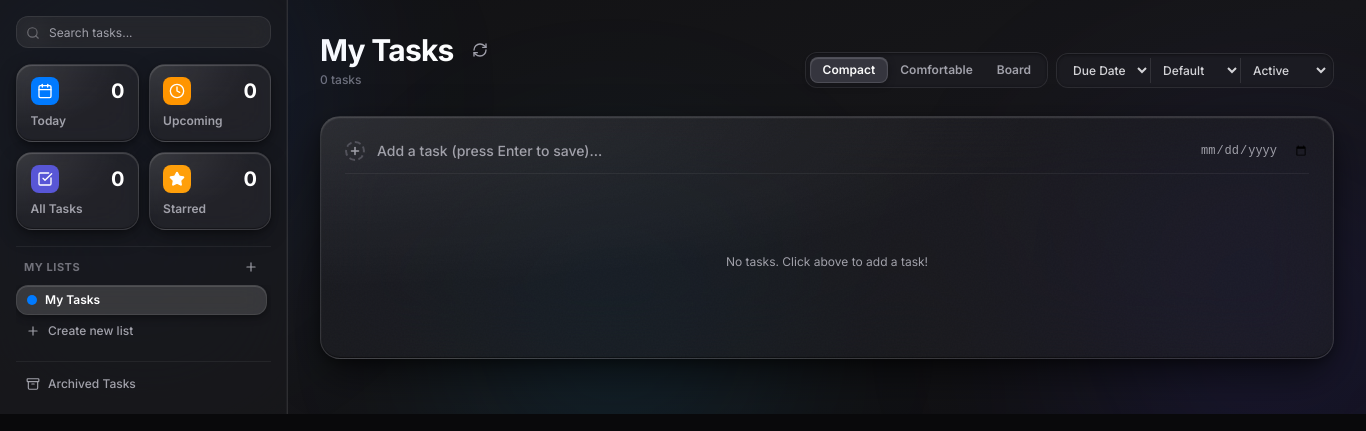
Test case: Tasks View Fixes & Reliability › adding a task in Starred view immediately marks it starred and visible
# Click Starred tile
Click the button "0 Starred" at [210, 191], box top-left (148, 152), bottom-right (271, 230)
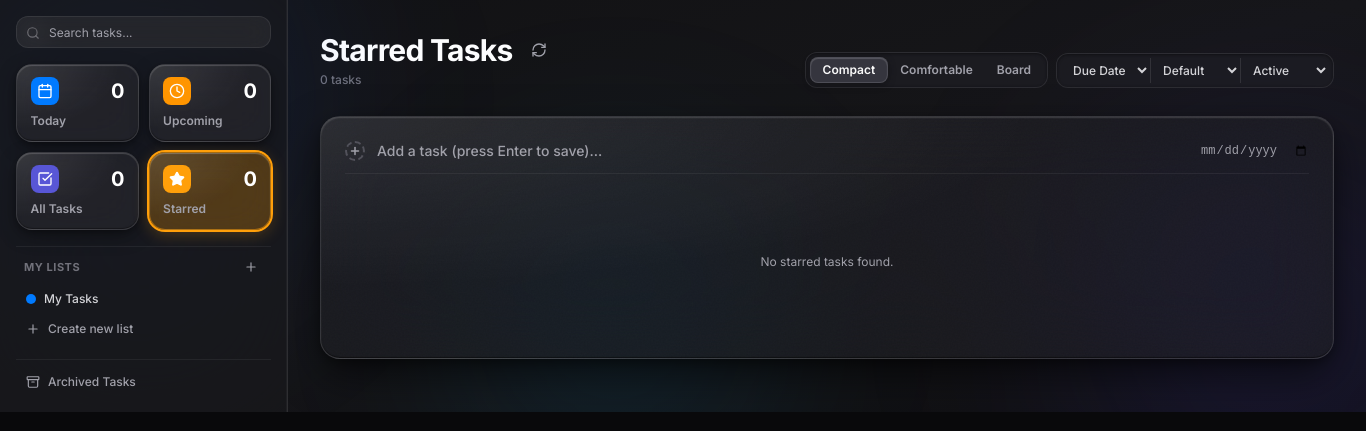
Check: the heading "Starred Tasks" is shown, box top-left (320, 32), bottom-right (512, 68)
# Quick add task in Starred view
Type "Urgent Starred Objective" into the field with placeholder "Add a task (press Enter to save)..." at [782, 151], box top-left (377, 141), bottom-right (1188, 161)
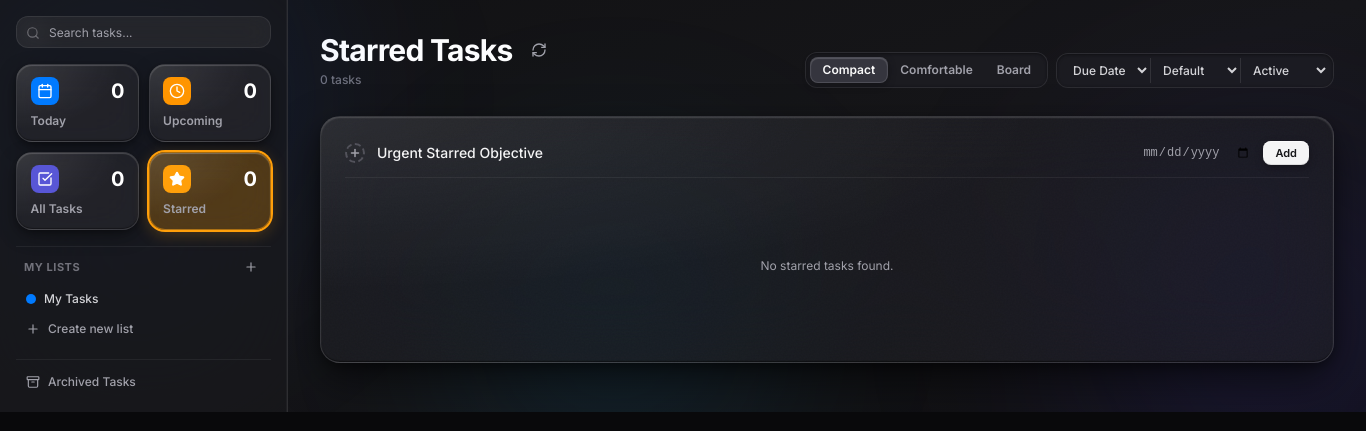
Submit the form with placeholder "Add a task", box top-left (345, 141), bottom-right (1309, 178)
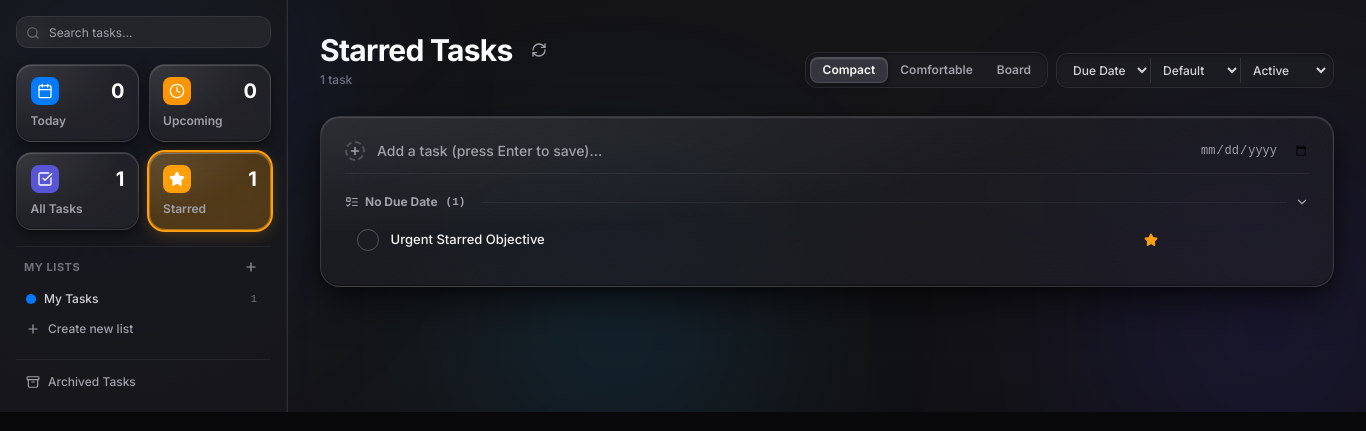
Check: the text "Urgent Starred Objective" is shown, box top-left (391, 230), bottom-right (545, 250)
